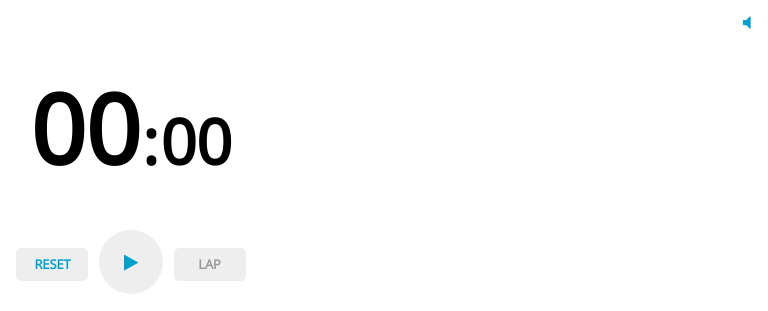
starts timer when user clicks `play`
Click the 2nd button "play" at (131, 262), box x1=99 y1=230 x2=163 y2=294
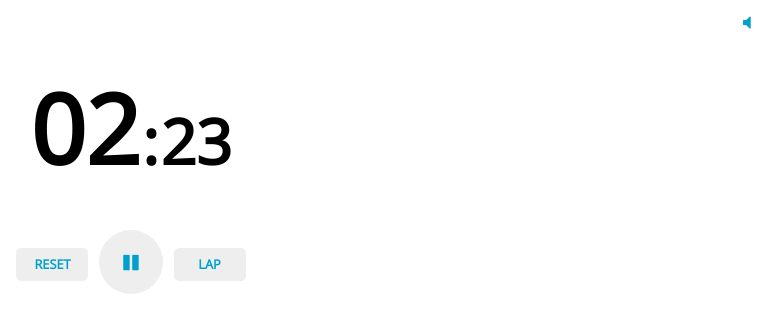
Expected: the button "lap" is enabled, x1=174 y1=248 x2=246 y2=281
